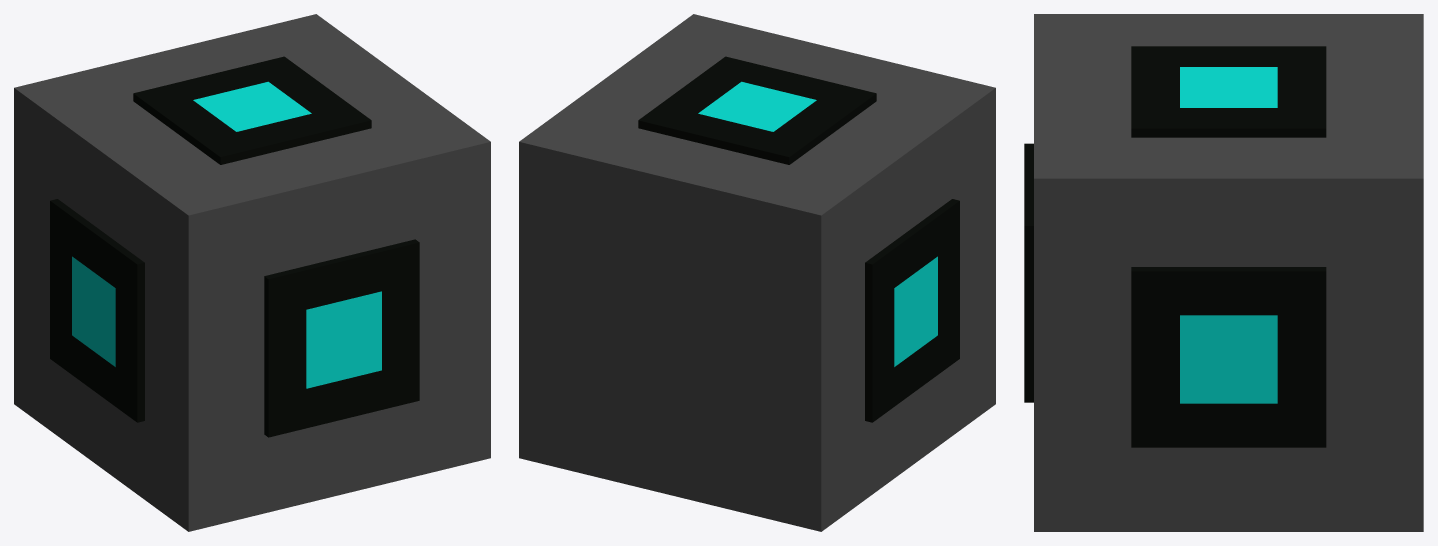
The model's file is Stretching unbreakable big box 2.fbx.
The picture shows the model from 3 angles, left to right: view 1: azimuth 30°, elevation 25°; view 2: azimuth 150°, elevation 25°; view 3: azimuth 270°, elevation 25°; orthographic projection. The views are drawn at different scales.
Parts seen in each view (by area): view 1: Cube; view 2: Cube; view 3: Cube.
Boxes of the visible parts, <box> form: Cube: <box>14,14,490,531</box>; Cube: <box>519,14,995,531</box>; Cube: <box>1024,14,1423,531</box>.
Size of the model in its own units: 210 by 210 by 205.
